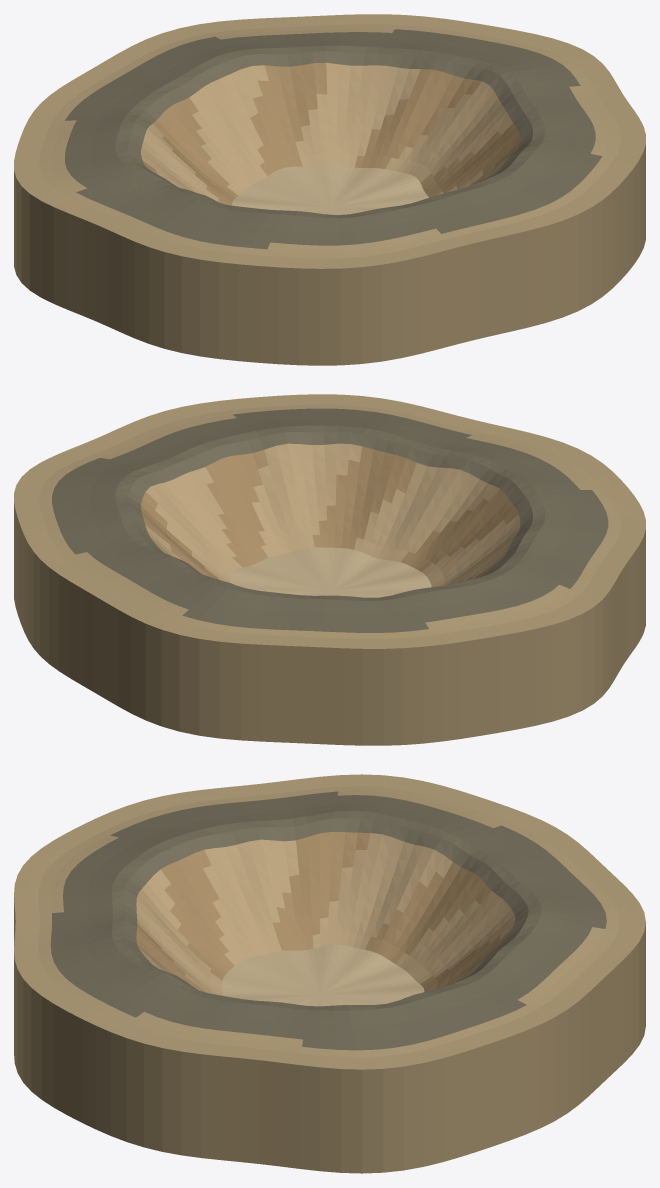
3 views of the same model, one above another, from view 1: azimuth 30°, elevation 25°; view 2: azimuth 150°, elevation 25°; view 3: azimuth 270°, elevation 25° (orthographic). The views are drawn at different scales.
Visible parts, largest first — view 1: below_country_grade_maar_and_low_ejecta_apron; view 2: below_country_grade_maar_and_low_ejecta_apron; view 3: below_country_grade_maar_and_low_ejecta_apron.
Boxes of the visible parts, <box> form: below_country_grade_maar_and_low_ejecta_apron: <box>14,14,645,365</box>; below_country_grade_maar_and_low_ejecta_apron: <box>14,394,645,745</box>; below_country_grade_maar_and_low_ejecta_apron: <box>14,774,645,1173</box>.
Size of the model in its own units: 122 by 22.31 by 110.
